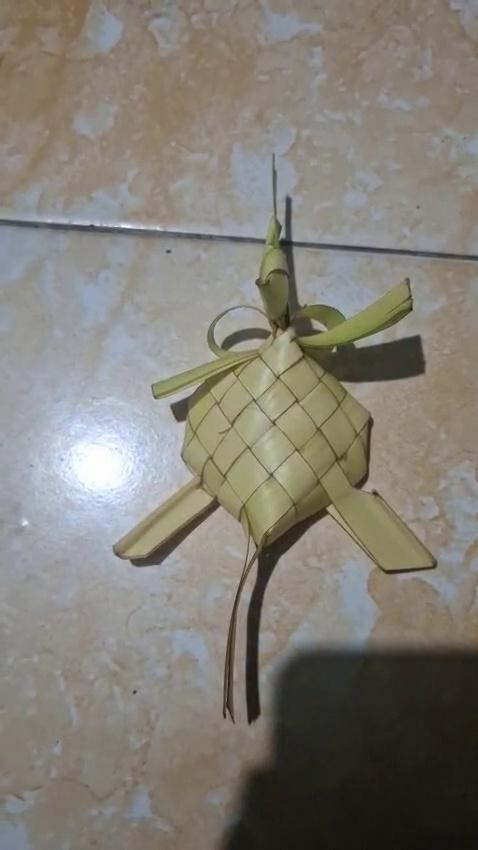Tipat Dampulan: (103, 146, 436, 729)
